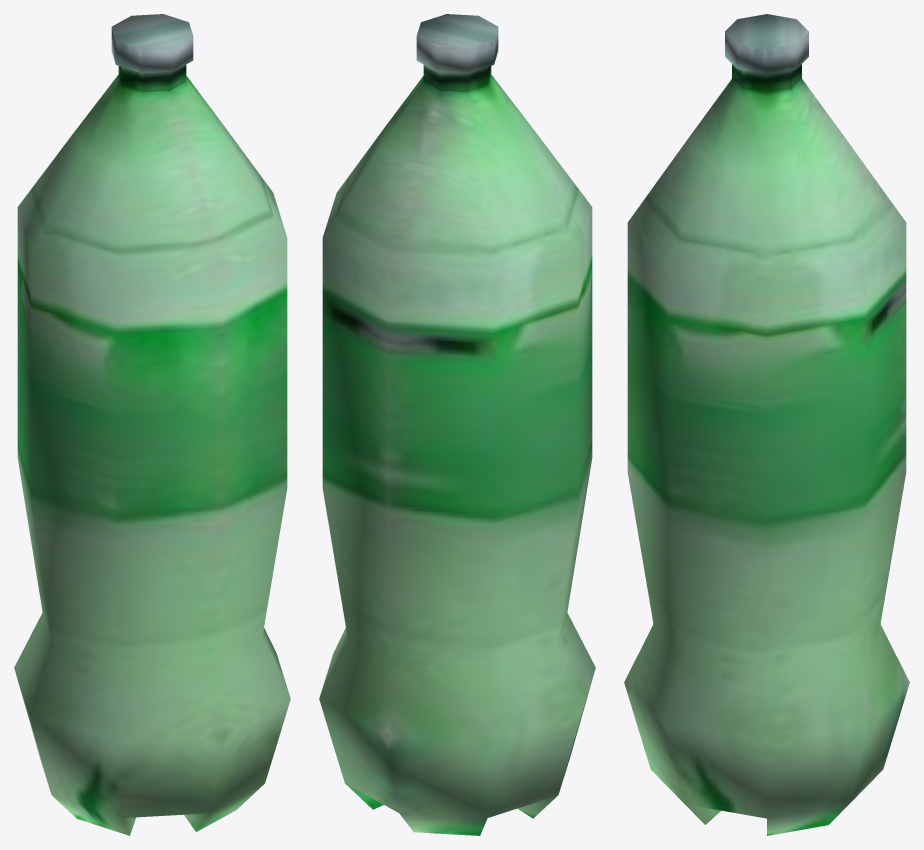
Rendered from Soda_08.glb.
3 renders of one model, left to right at view 1: azimuth 30°, elevation 25°; view 2: azimuth 150°, elevation 25°; view 3: azimuth 270°, elevation 25°, orthographic.
Visible parts, largest first — view 1: Soda_08; view 2: Soda_08; view 3: Soda_08.
Part boxes in pixels (box(x1,y1,x2,y2)): Soda_08: box(14, 14, 290, 835); Soda_08: box(319, 14, 595, 835); Soda_08: box(624, 14, 909, 835).
Size of the model in its own units: 0.199 by 0.5896 by 0.199.
1 material, 1 textured.
